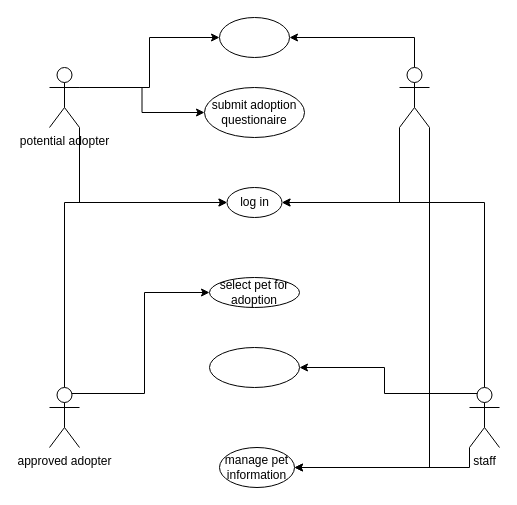
This 517x505 diagram has some shape labels left out. Here are the shapes that lost their labels. From the top down, the centre of each, then its label:
At [254,37]: "Browse Pet Listing".
At [414,97]: "volunteer".
At [254,367]: "review applications".
